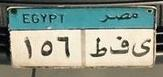1: (23, 35, 35, 60)
5: (40, 40, 54, 58)
6: (56, 33, 74, 62)
Taa: (89, 37, 107, 61)
faa: (108, 34, 130, 58)
yaa: (131, 36, 152, 60)
